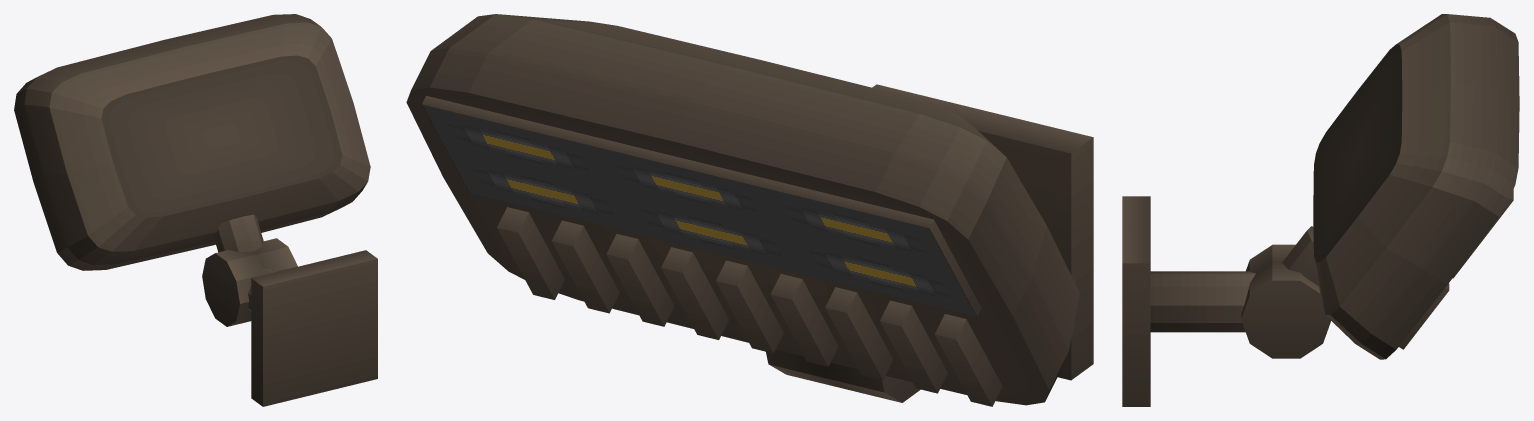
Rendered from floodlight_lithdsxf2kn.obj.
The picture shows the model from 3 angles, left to right: view 1: azimuth 30°, elevation 25°; view 2: azimuth 150°, elevation 25°; view 3: azimuth 270°, elevation 25°; orthographic projection. The views are drawn at different scales.
Visible parts, largest first — view 1: fixture; view 2: fixture; view 3: fixture.
Part boxes in pixels (box(x1,y1,x2,y2)): fixture: box(14, 14, 377, 406); fixture: box(406, 14, 1093, 406); fixture: box(1122, 14, 1519, 406).
Size of the model in its own units: 0.4598 by 0.3567 by 0.4389.
